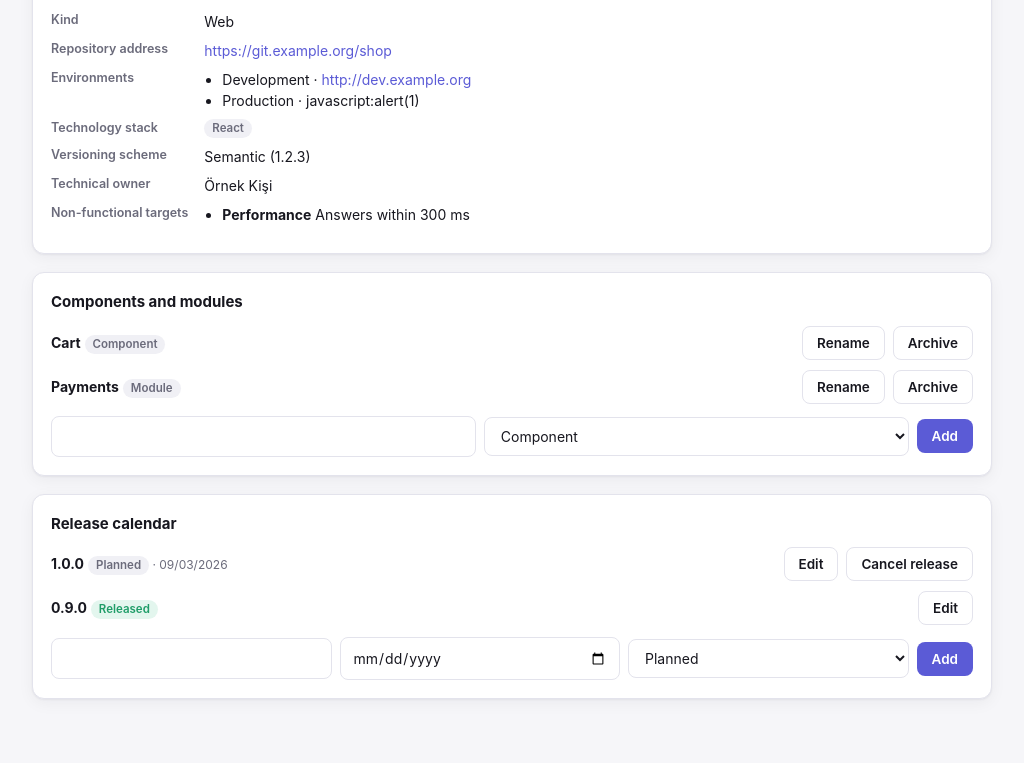
Test: the application page: release calendar › refuses an empty name before asking, cancels an edit and shows the API's refusal
(page scrolled)
Expected: the text "1.0.0" is shown, x1=51 y1=555 x2=84 y2=572
Click the 2nd button "Add".
click(945, 659)  # box x1=916 y1=642 x2=973 y2=676
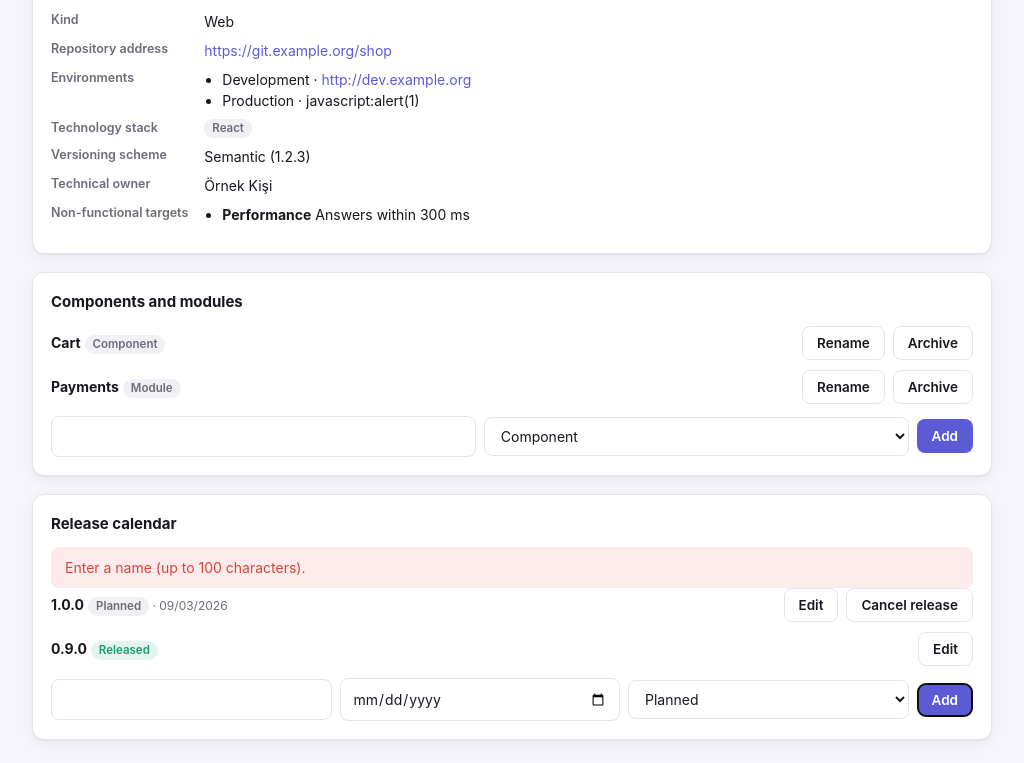
Now the text "Enter a name (up to 100 characters)." is shown, box x1=51 y1=547 x2=973 y2=588
Click the button "Edit" in the row of "1.0.0".
click(811, 605)  # box x1=784 y1=588 x2=838 y2=622
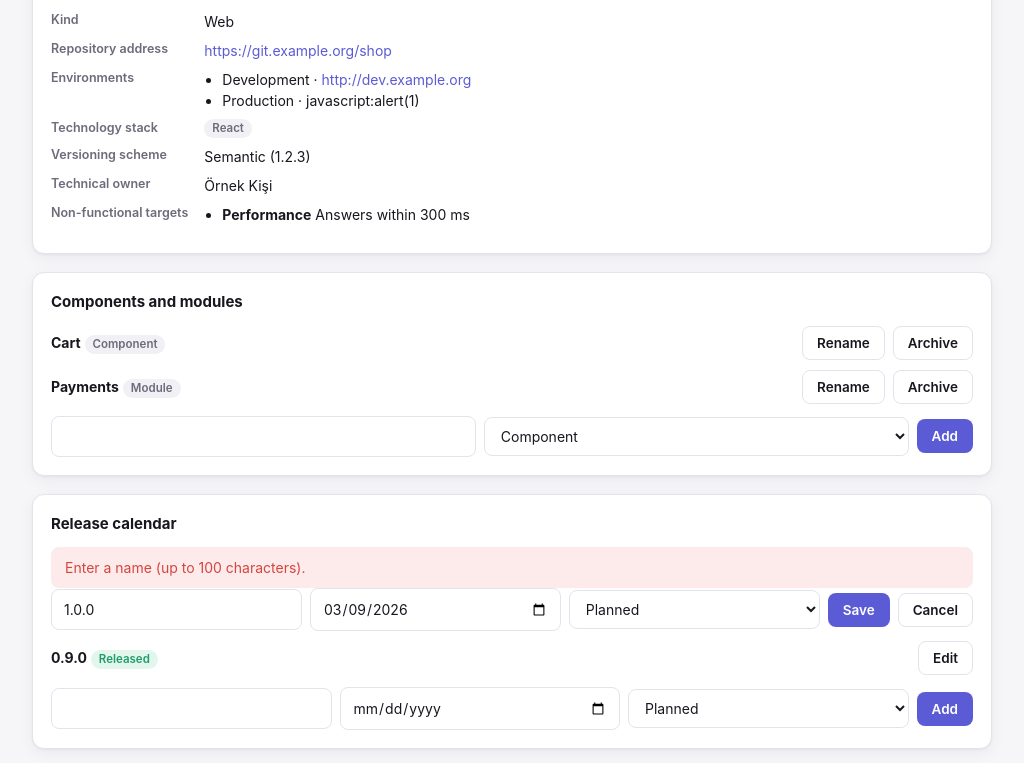
Click the button "Cancel".
click(935, 610)  # box x1=898 y1=593 x2=973 y2=627
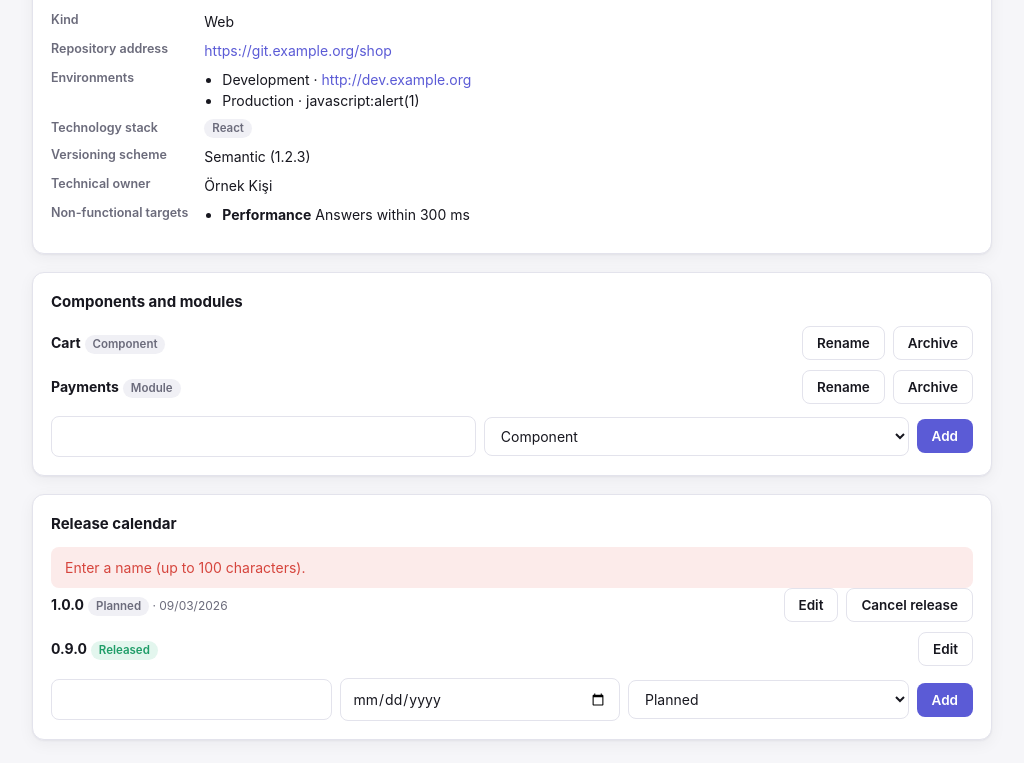
Click the button "Cancel release".
click(910, 605)  # box x1=846 y1=588 x2=973 y2=622
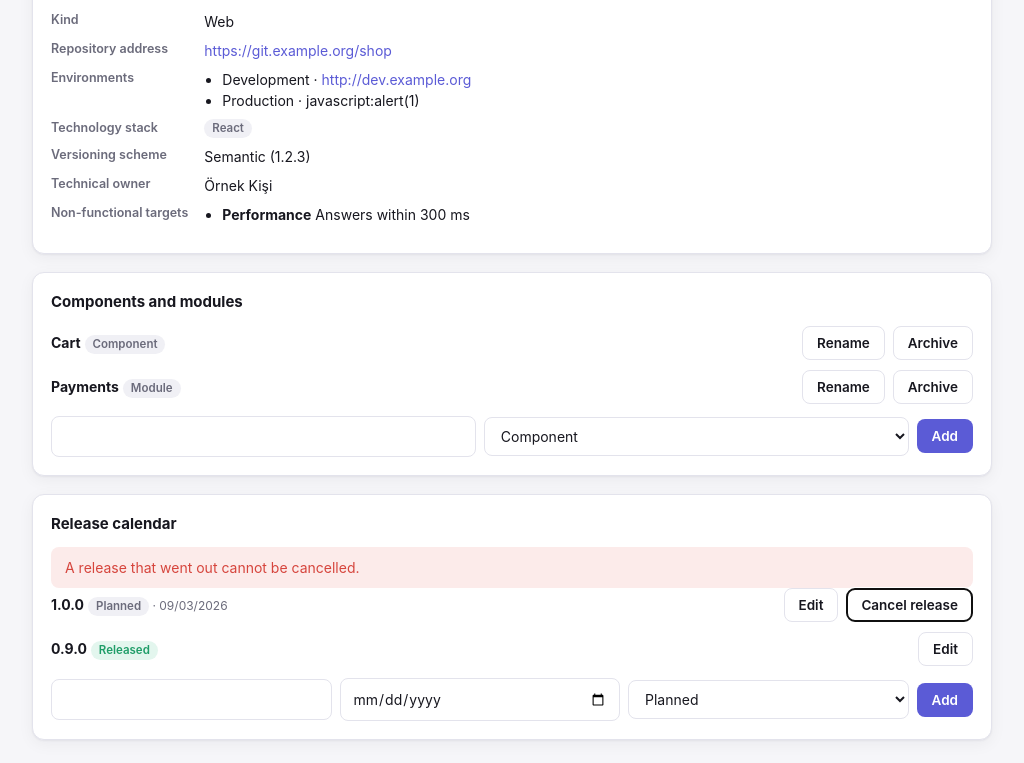
Now the text "A release that went out cannot be cancelled." is shown, box x1=51 y1=547 x2=973 y2=588
